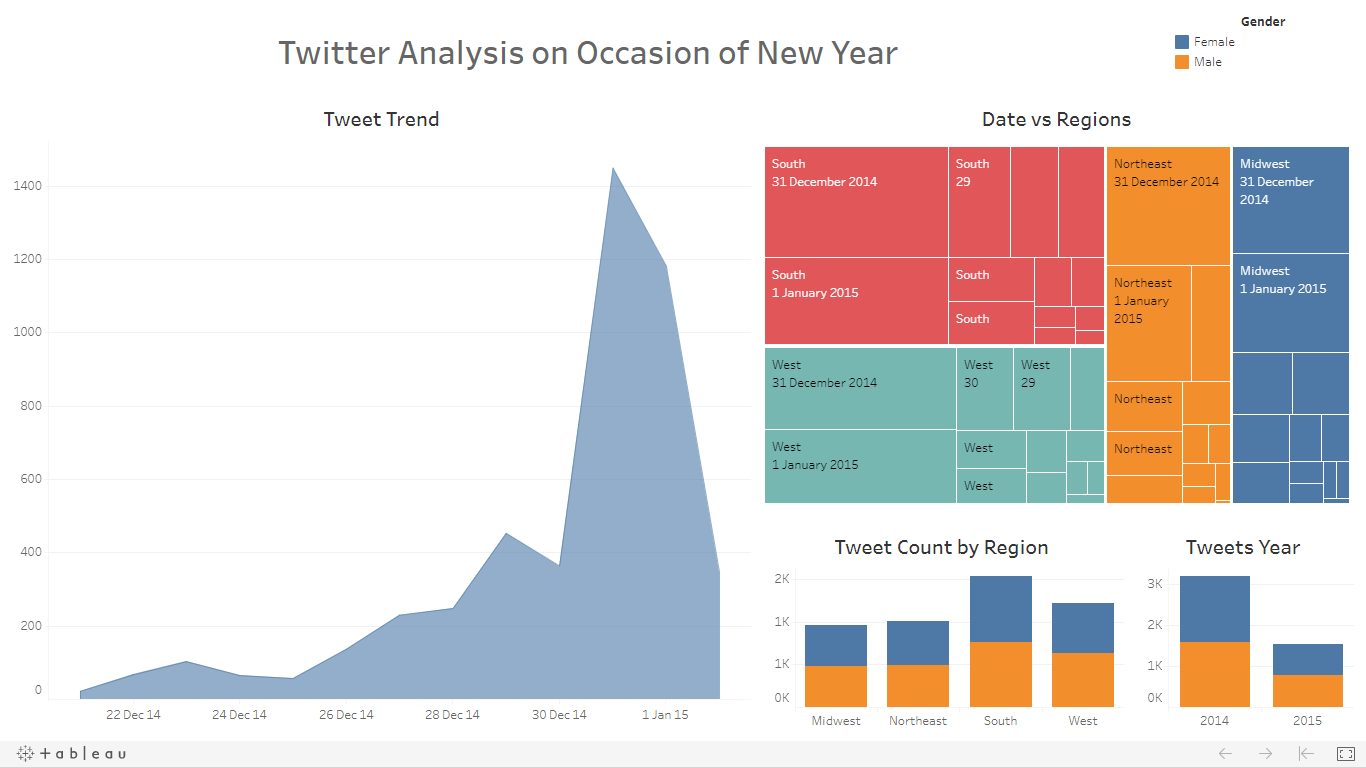

This screenshot's page, from the dashboard's own definition file:
{"tool":"tableau","page":{"name":"Twitter Analysis (New Year Resolution)","canvas":[1000,1000],"units":"permille","ordinal":0},"visuals":[{"type":"worksheet","box":[0,0,1000,1000]},{"type":"worksheet","box":[6.9,13.5,847.6,114.9]},{"type":"worksheet","title":"Tweet Count by Region","mark":"Automatic","rows":["tweet_text"],"cols":["tweet_region"],"param":"[federated.0t5vrh608ndl4h184h2hk0da53lq].[none:user_gender:nk]","box":[854.5,13.5,138.5,114.9]},{"type":"worksheet","param":"horz","box":[6.9,128.4,986.1,858.1]},{"type":"worksheet","param":"horz","box":[6.9,128.4,986.1,858.1]},{"type":"worksheet","box":[6.9,128.4,986.1,858.1]},{"type":"worksheet","title":"Tweet Trend","mark":"Area","rows":["tweet_text"],"cols":["tweet_created"],"box":[6.9,128.4,545.5,858.1]},{"type":"worksheet","title":"Date vs Regions","mark":"Automatic","box":[552.4,128.4,440.7,575.4]},{"type":"worksheet","title":"Tweet Count by Region","mark":"Automatic","rows":["tweet_text"],"cols":["tweet_region"],"box":[552.4,703.7,272.7,282.8]},{"type":"worksheet","title":"Tweets Year","mark":"Bar","rows":["tweet_text"],"cols":["tweet_created"],"box":[825.1,703.7,168,282.8]}]}

Visuals, with their boxes on the dashboard's canvas, which has no fixed pixel size, in thousandths of its width and height (x1, y1, x2, y2). These are canvas units, not pixel positions in the 1366x768 screenshot, which may show the page scaled, cropped or inside an application window:
worksheet: [left=0, top=0, right=1000, bottom=1000]
worksheet: [left=7, top=14, right=854, bottom=128]
"Tweet Count by Region" worksheet: [left=854, top=14, right=993, bottom=128]
worksheet: [left=7, top=128, right=993, bottom=986]
worksheet: [left=7, top=128, right=993, bottom=986]
worksheet: [left=7, top=128, right=993, bottom=986]
"Tweet Trend" worksheet (Area marks): [left=7, top=128, right=552, bottom=986]
"Date vs Regions" worksheet: [left=552, top=128, right=993, bottom=704]
"Tweet Count by Region" worksheet: [left=552, top=704, right=825, bottom=986]
"Tweets Year" worksheet (Bar marks): [left=825, top=704, right=993, bottom=986]
